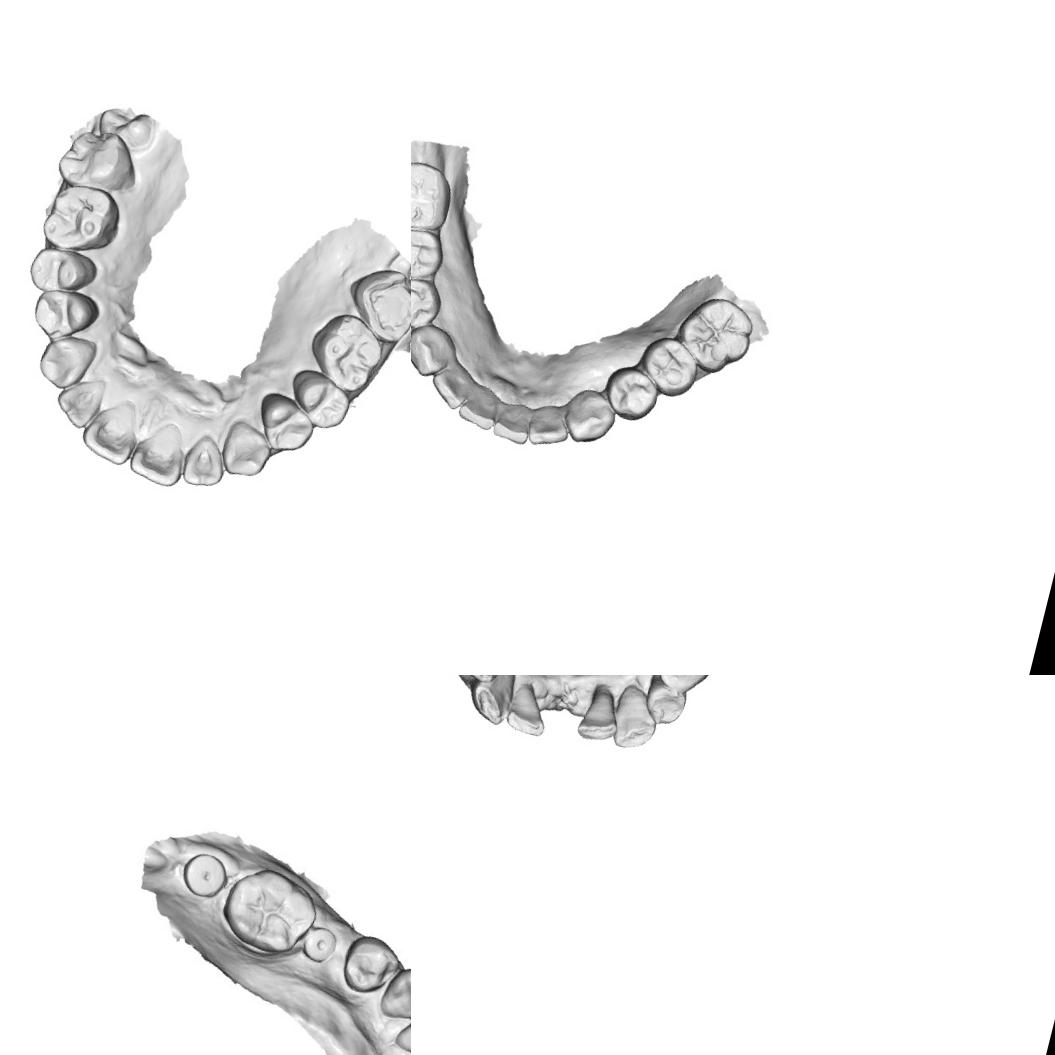canine: (31, 325, 102, 396), (214, 413, 278, 483), (556, 382, 620, 450), (606, 681, 664, 755), (411, 318, 460, 382), (461, 675, 520, 727), (377, 961, 411, 1026)
implant: (175, 846, 233, 906), (299, 922, 340, 966)
incisor: (75, 388, 146, 468), (123, 414, 192, 491), (47, 367, 110, 435), (177, 426, 234, 494), (574, 679, 628, 746), (501, 678, 554, 738), (425, 358, 476, 412), (454, 380, 505, 432), (524, 402, 574, 453), (489, 398, 535, 447), (386, 1002, 411, 1055)
molar: (214, 862, 318, 960), (667, 287, 761, 383), (300, 304, 392, 400), (35, 174, 128, 262), (52, 120, 146, 200), (411, 153, 460, 238)
premolar: (24, 280, 104, 352), (282, 362, 357, 435), (249, 386, 322, 460), (632, 329, 704, 402), (22, 239, 101, 305), (340, 928, 404, 1000), (596, 360, 664, 426), (638, 675, 691, 729), (411, 221, 448, 285), (411, 271, 445, 333), (651, 675, 719, 698)
